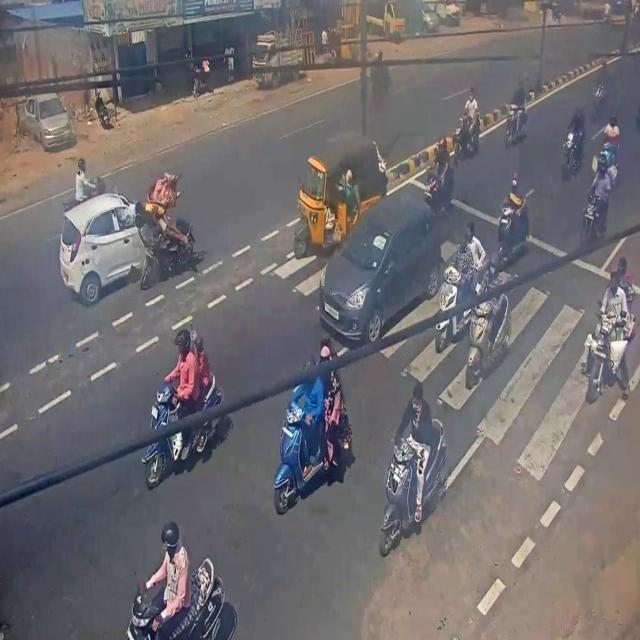accident: (52, 144, 200, 308)
non_accident: (280, 119, 444, 351), (432, 216, 516, 396)
